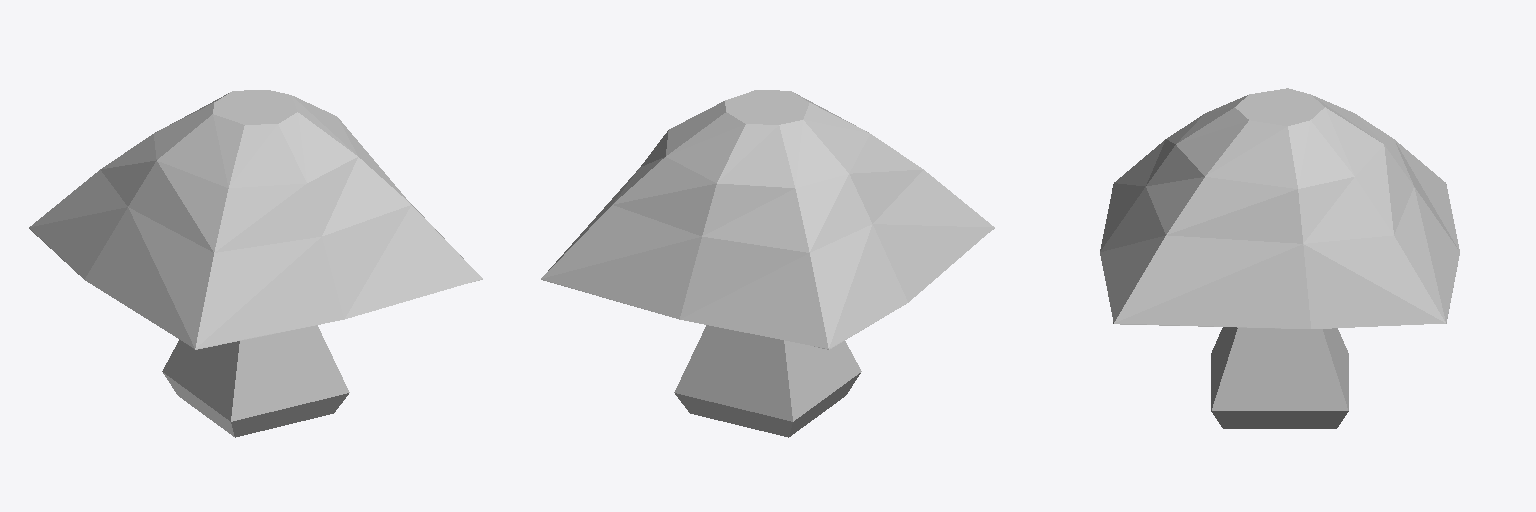
File: Mushroom.obj
3 renders of one model, left to right at view 1: azimuth 30°, elevation 25°; view 2: azimuth 150°, elevation 25°; view 3: azimuth 270°, elevation 25°, orthographic.
Parts seen in each view (by area): view 1: pCube1; view 2: pCube1; view 3: pCube1.
Boxes of the visible parts, <box> form: pCube1: <box>29,90,482,437</box>; pCube1: <box>541,90,994,437</box>; pCube1: <box>1100,88,1459,428</box>.
Size of the model in its own units: 2.62 by 2.39 by 2.62.